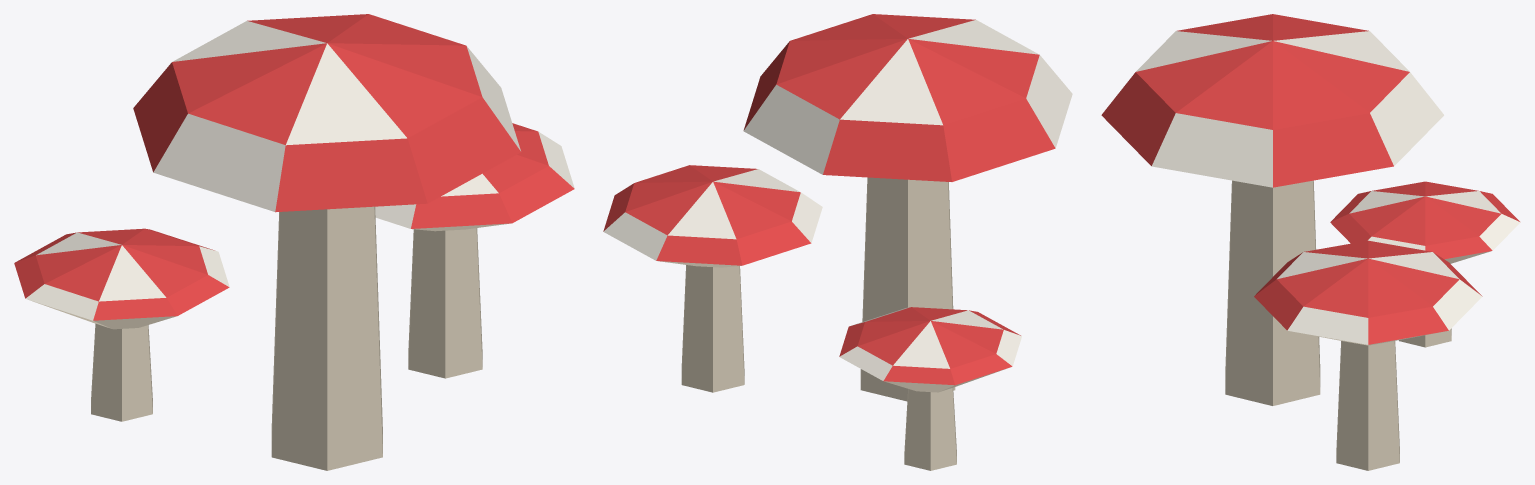
Rendered from mushroom_redGroup.glb.
The picture shows the model from 3 angles, left to right: view 1: azimuth 30°, elevation 25°; view 2: azimuth 150°, elevation 25°; view 3: azimuth 270°, elevation 25°; orthographic projection. The views are drawn at different scales.
Visible parts, largest first — view 1: mushroom_redGroup; view 2: mushroom_redGroup; view 3: mushroom_redGroup.
Part boxes in pixels (x1=…): mushroom_redGroup: x1=14, y1=14, x2=574, y2=470; mushroom_redGroup: x1=603, y1=14, x2=1072, y2=470; mushroom_redGroup: x1=1101, y1=14, x2=1520, y2=470.
Size of the model in its own units: 0.26 by 0.198 by 0.22.
Materials: 1 (1 with a texture image).
